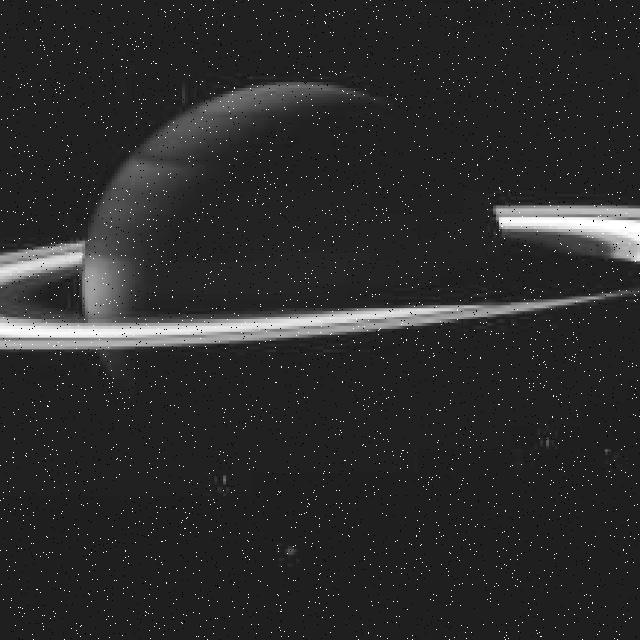Saturn: (0, 85, 640, 435)
